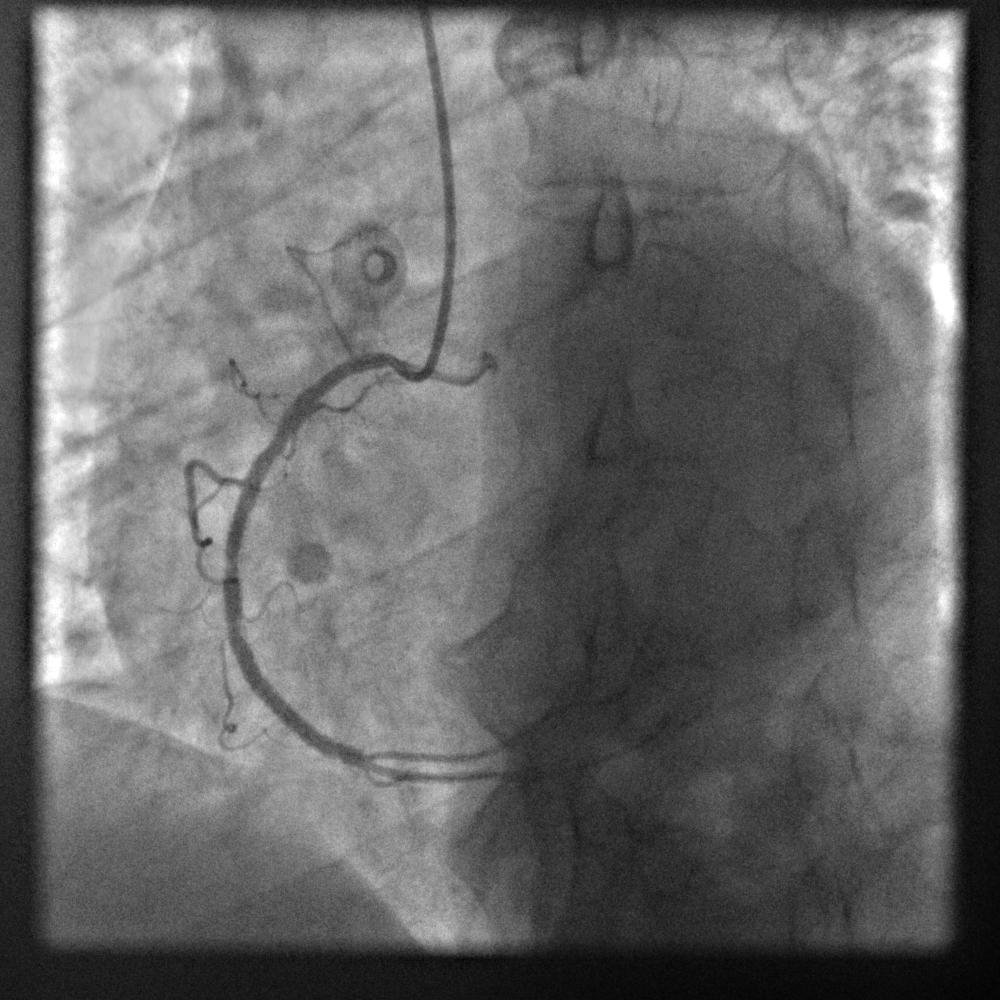Stenosis: (259, 412, 296, 474)
